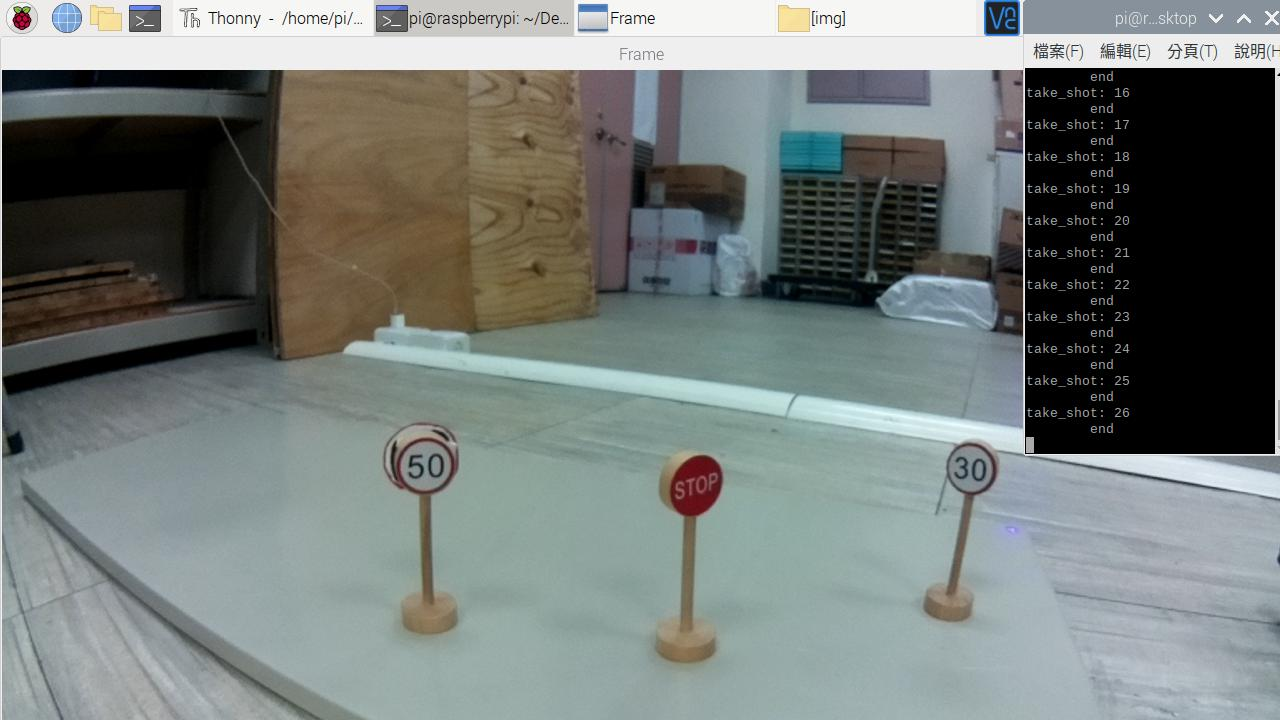Speed30: (946, 439, 997, 495)
Speed50: (390, 430, 458, 492)
Stop: (664, 448, 725, 517)
